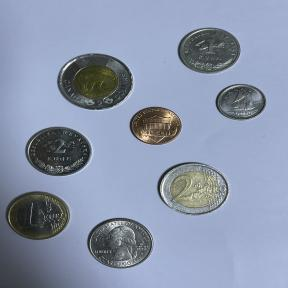1 Euro: (2, 188, 74, 242)
2 Euro: (154, 160, 234, 217)
Canda-10cent-: (214, 83, 270, 122)
Canda-2Dollar-: (52, 50, 136, 110)
Croatia-2Kune-: (22, 124, 94, 178)
US-1cent-: (128, 106, 184, 146)
US-25cent-: (84, 215, 158, 271)
